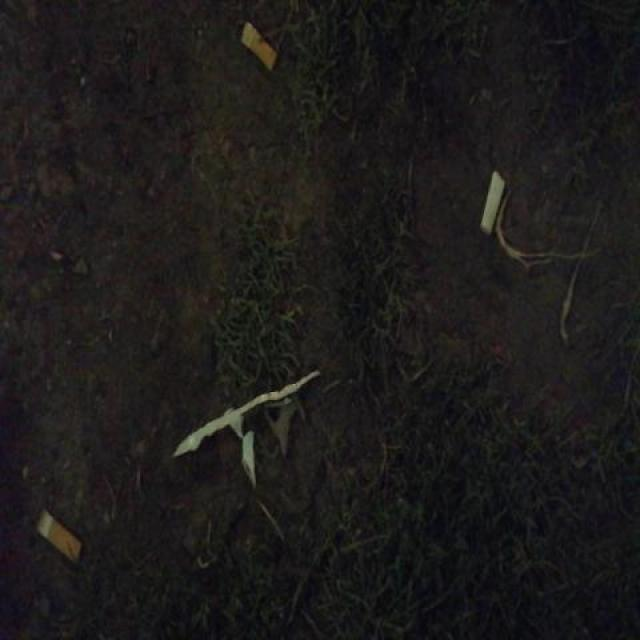non-organic waste: (34, 504, 83, 569), (236, 17, 281, 76), (478, 167, 510, 242)
